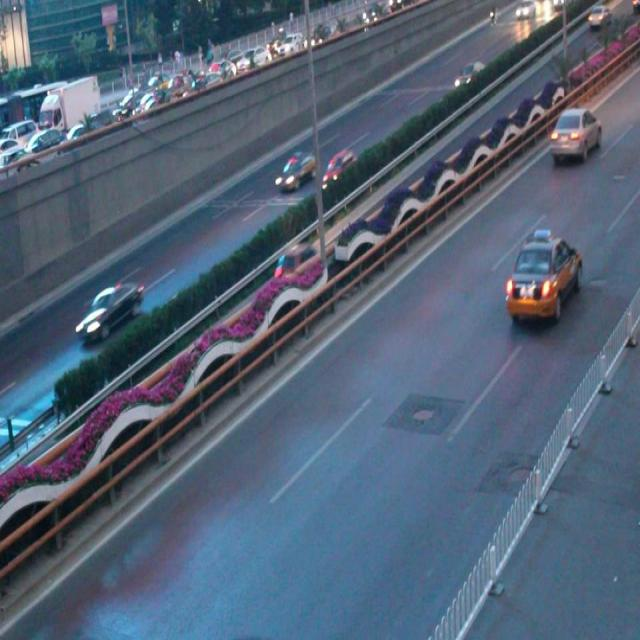car: (503, 230, 581, 322), (73, 281, 145, 342), (548, 106, 600, 163), (274, 150, 317, 191), (319, 150, 358, 190), (274, 245, 316, 281)
